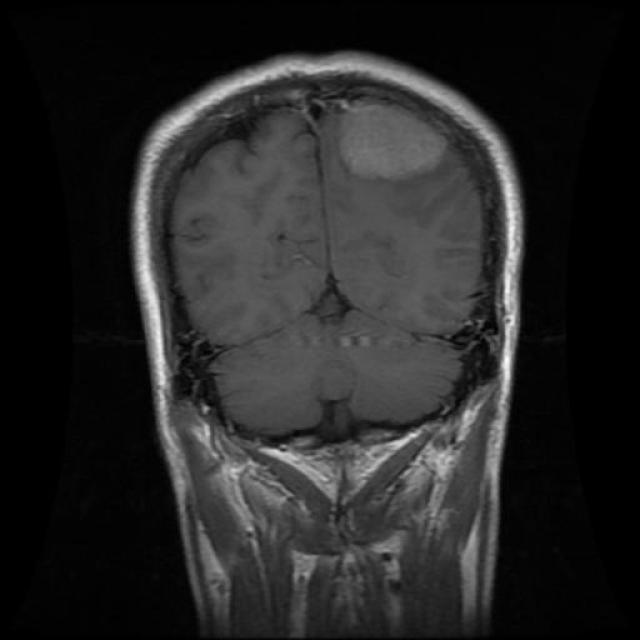meningioma: (334, 98, 449, 181)
